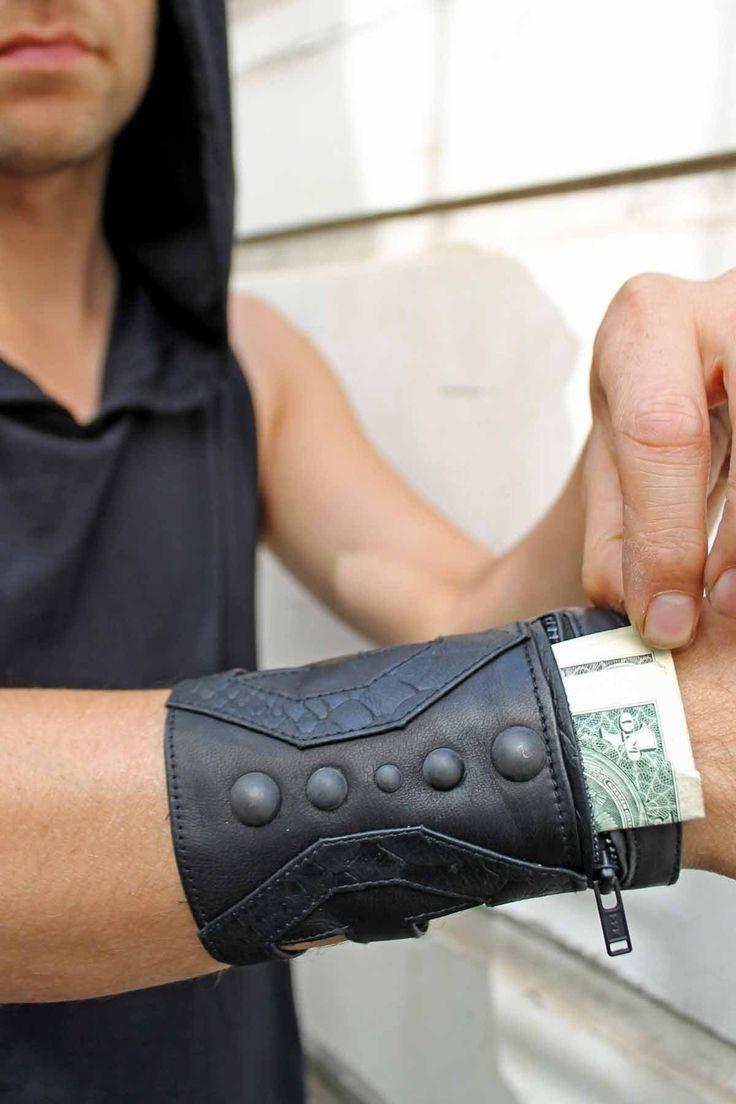cuero: (165, 600, 683, 965)
